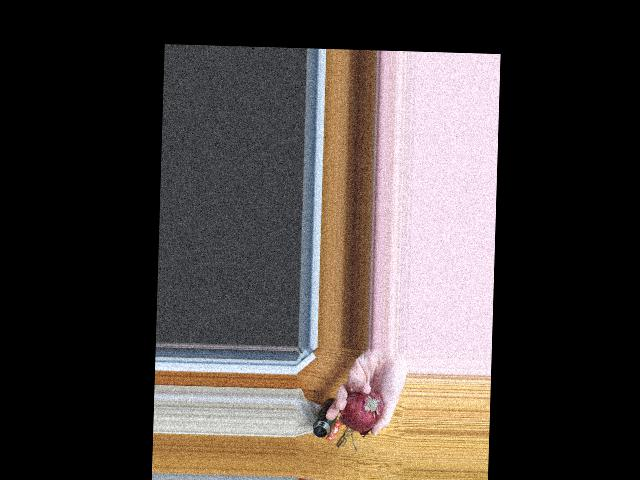onion: (345, 384, 386, 429)
